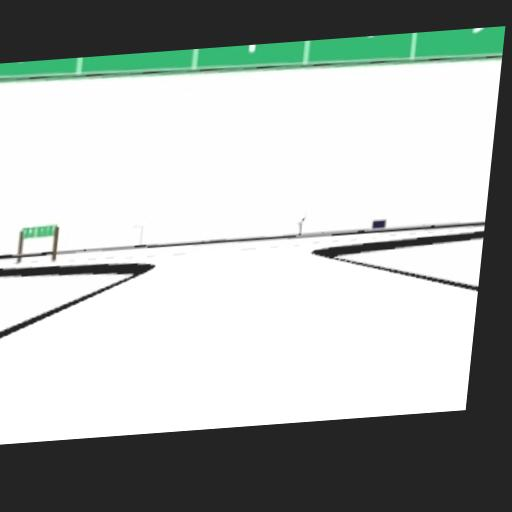Left: (8, 57, 75, 77)
Right: (309, 33, 409, 64), (426, 26, 495, 46)
Straight: (216, 43, 282, 59)
